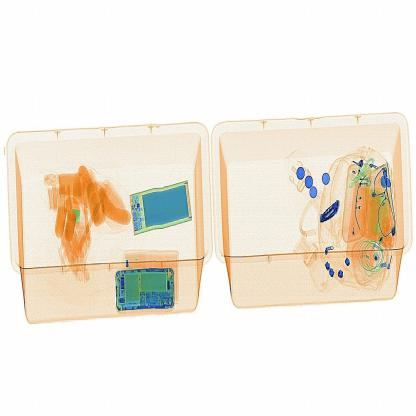knife: (314, 192, 350, 229)
